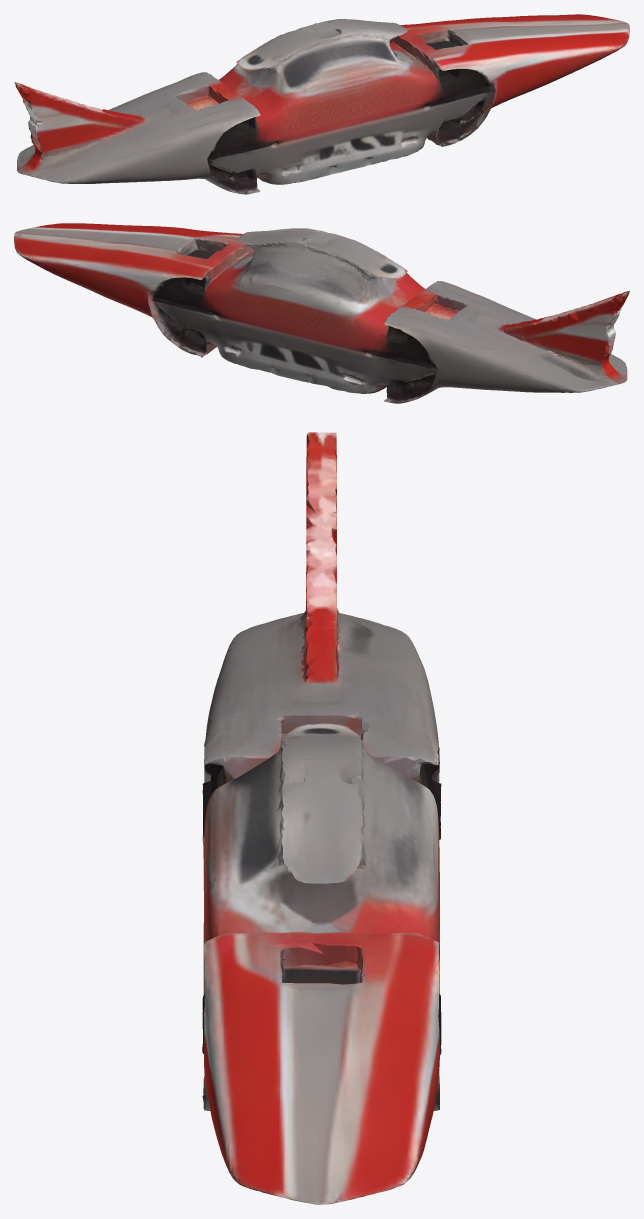
Rendered from viper_hull.glb.
3 renders of one model, top to bottom at view 1: azimuth 30°, elevation 25°; view 2: azimuth 150°, elevation 25°; view 3: azimuth 270°, elevation 25°, orthographic. The views are drawn at different scales.
Visible parts, largest first — view 1: viper_hull; view 2: viper_hull; view 3: viper_hull.
Boxes of the visible parts, bbox=[...] form: viper_hull: bbox=[14, 14, 629, 194]; viper_hull: bbox=[14, 223, 629, 403]; viper_hull: bbox=[202, 432, 441, 1204].
Bounding box in the file's own units: 1.89 × 0.4143 × 0.3203.
1 material, 1 textured.
